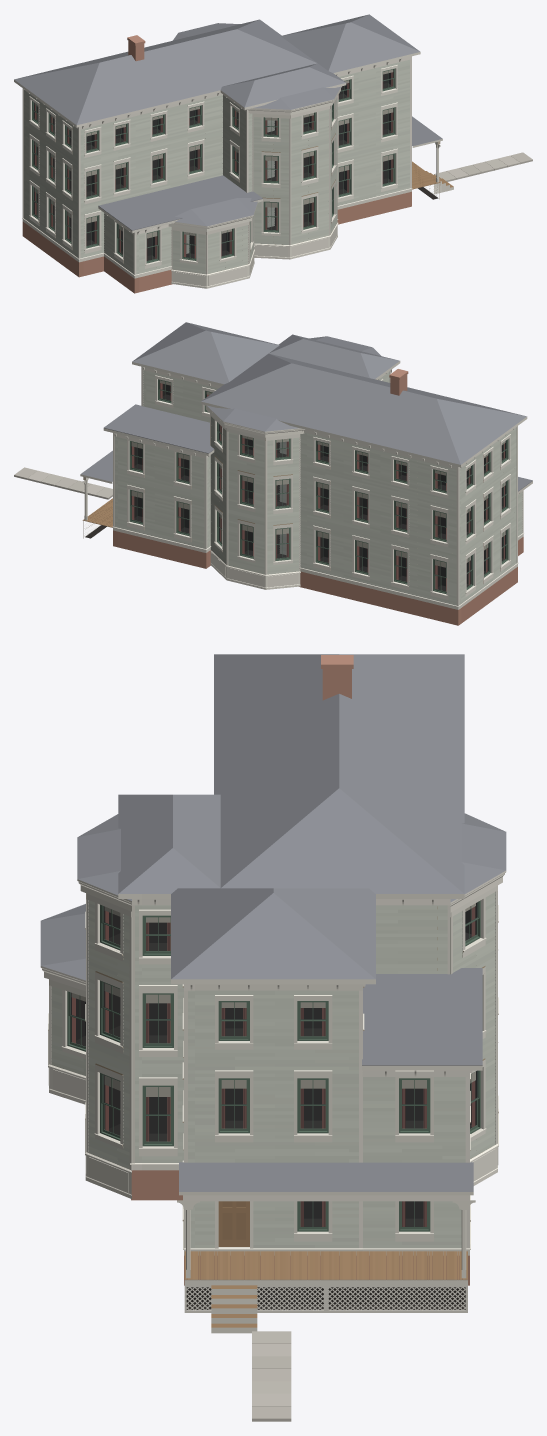
File: house_2010_prairie__as_mapped_1904.glb
The picture shows the model from 3 angles, top to bottom: view 1: azimuth 30°, elevation 25°; view 2: azimuth 150°, elevation 25°; view 3: azimuth 270°, elevation 25°; orthographic projection. The views are drawn at different scales.
Parts seen in each view (by area): view 1: house_2010_prairie__as_mapped_1904; view 2: house_2010_prairie__as_mapped_1904; view 3: house_2010_prairie__as_mapped_1904.
Boxes of the visible parts, x1,y1,x2,y2 form: house_2010_prairie__as_mapped_1904: (14,14,532,293); house_2010_prairie__as_mapped_1904: (14,322,532,625); house_2010_prairie__as_mapped_1904: (40,654,506,1421).
Bounding box in the file's own units: 32.74 × 13.29 × 14.17.
